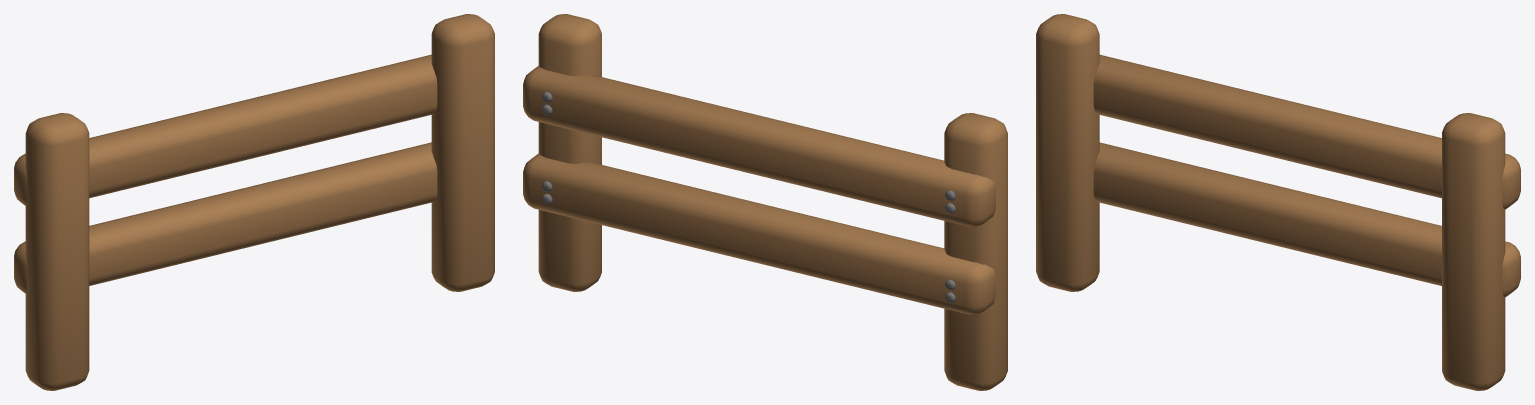
File: fence1.fbx
3 views of the same model, side by side, from view 1: azimuth 30°, elevation 25°; view 2: azimuth 150°, elevation 25°; view 3: azimuth 330°, elevation 25° (orthographic).
Visible parts, largest first — view 1: Cube.004; view 2: Cube.004; view 3: Cube.004.
Part boxes in pixels (left/top/right/bottom): Cube.004: left=14, top=14, right=494, bottom=390; Cube.004: left=523, top=14, right=1007, bottom=390; Cube.004: left=1036, top=14, right=1520, bottom=390.
Bounding box in the file's own units: 4.88 × 0.6958 × 2.67.
